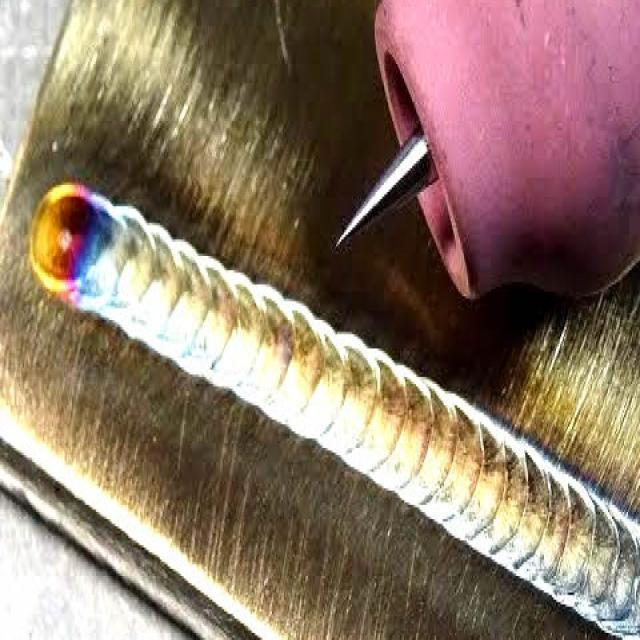Good Welding: (31, 187, 640, 636)
